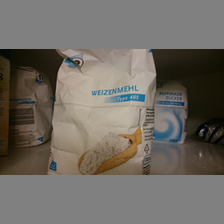flour: (48, 50, 161, 175), (10, 65, 55, 148), (153, 76, 193, 144)
